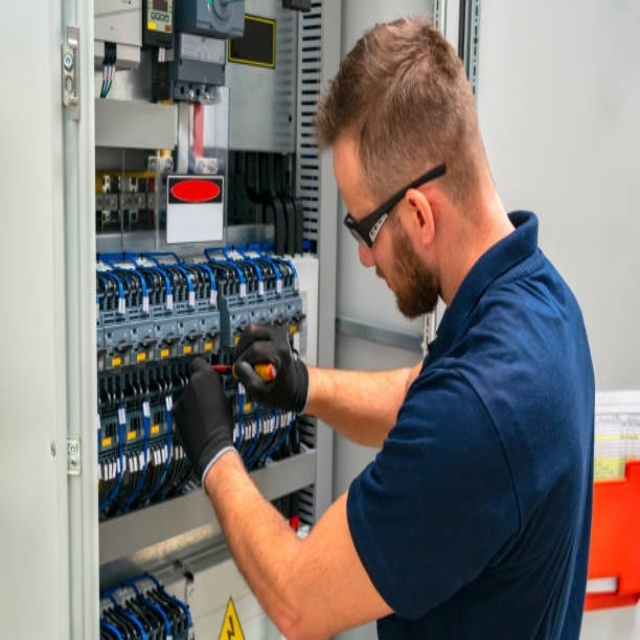Gafas: (344, 163, 445, 249)
Guantes: (170, 356, 237, 485), (231, 321, 308, 413)
Sin_mascara: (364, 260, 410, 317)
